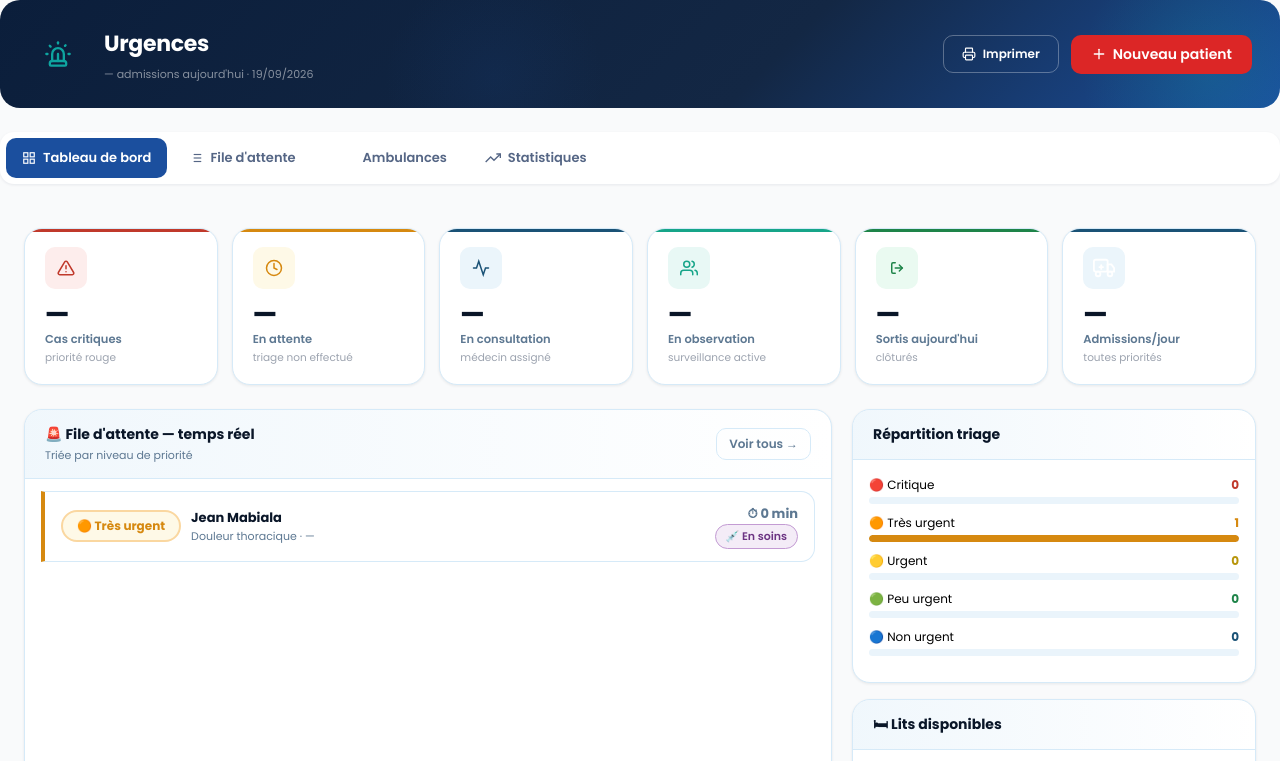
Test: ANOM-URG-02 — le bouton Enregistrer reste désactivé tant qu'aucun résultat n'est saisi (non-régression validation)
This screenshot has width=1280, height=761.
Click the text "Jean Mabiala".
click(428, 526)  # box [41,490,815,562]
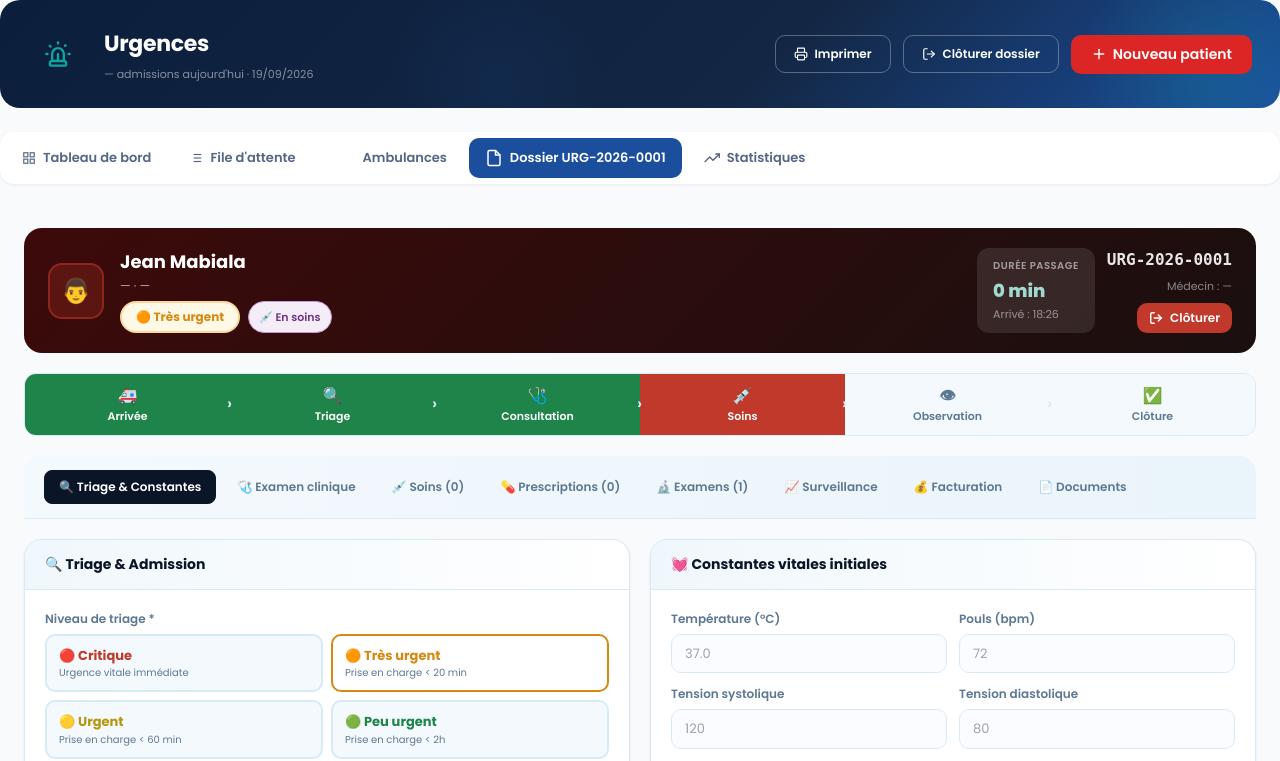
Click the button "🔬 Examens (1)".
click(702, 486)  # box [641,470,763,504]
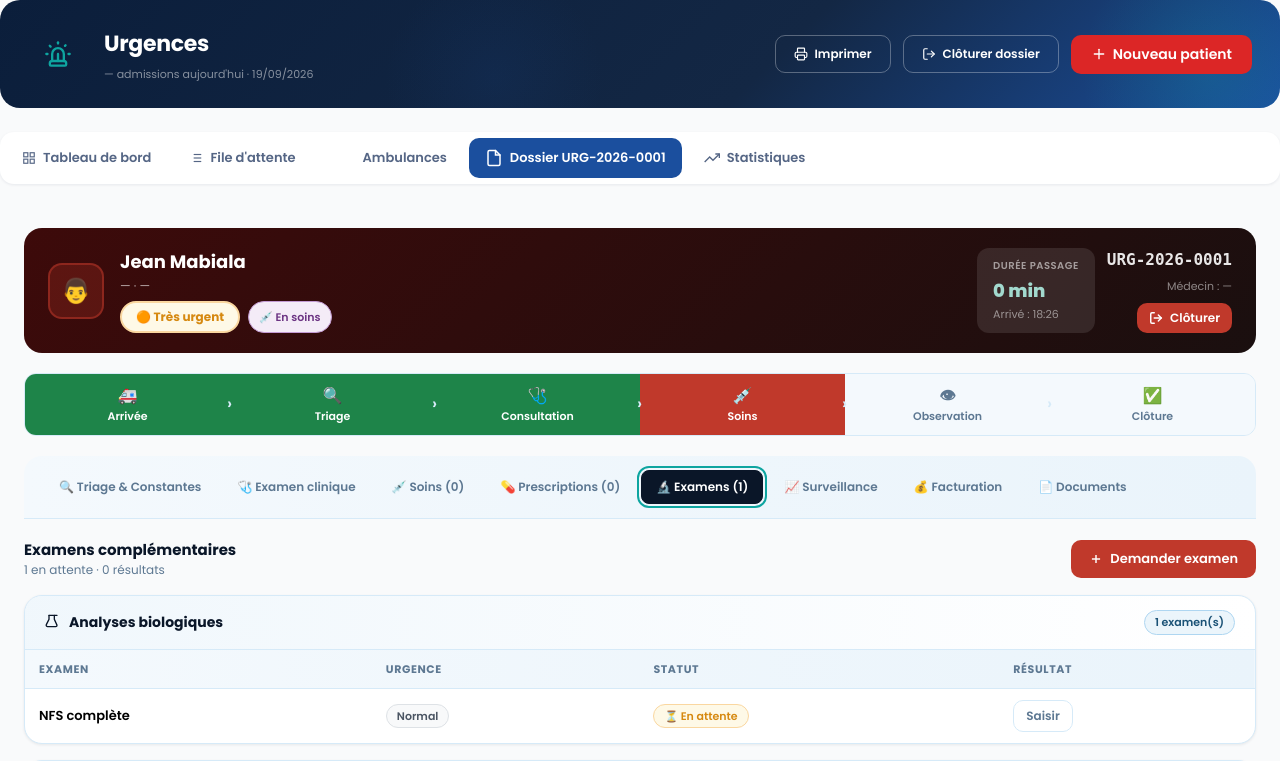
Check: the text "NFS complète" is shown, box [25,688,372,743]
Click the button "Saisir".
click(1043, 716)  # box [1013,700,1073,732]
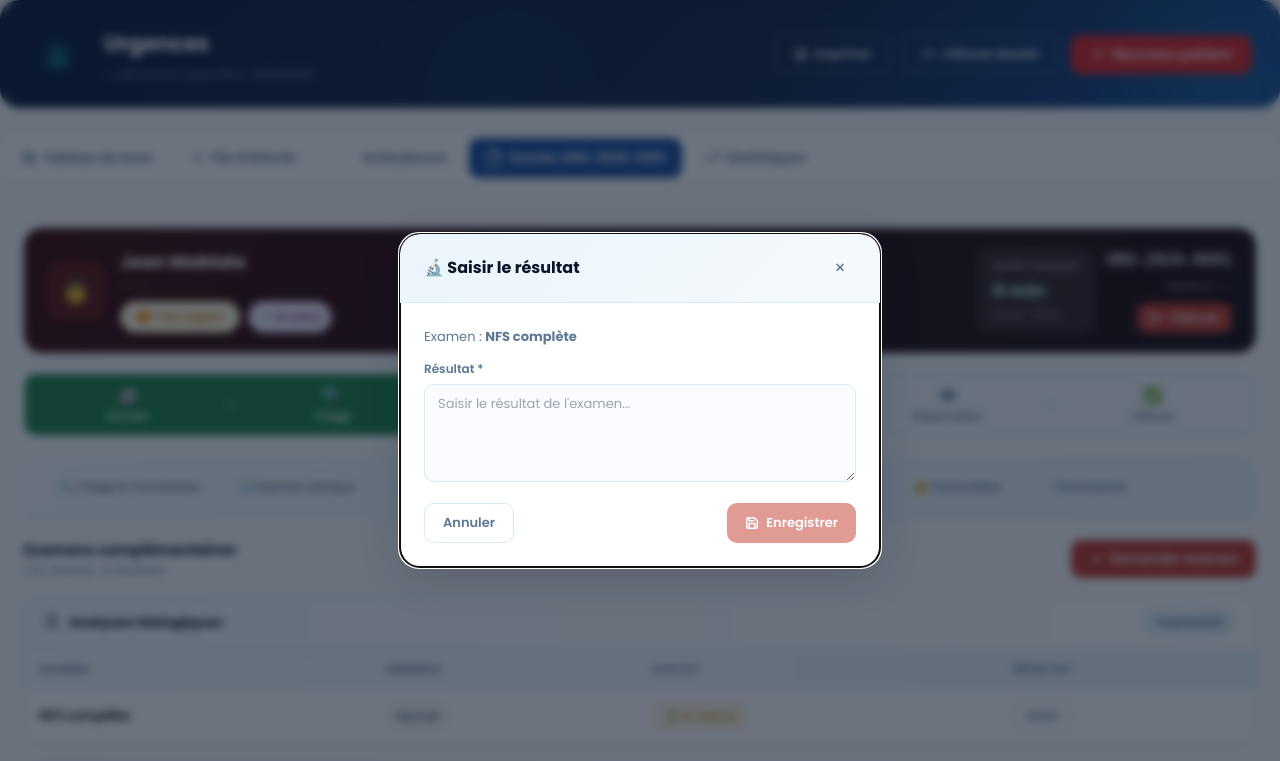
Check: the dialog is shown, box [400,234,880,566]
Check: the button "Enregistrer" is disabled, box [727,503,856,542]
